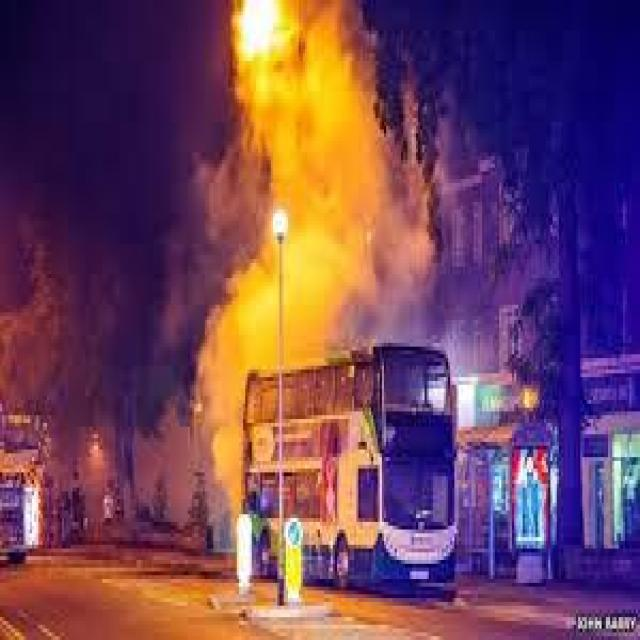smoke: (178, 181, 372, 366), (374, 166, 511, 359)
